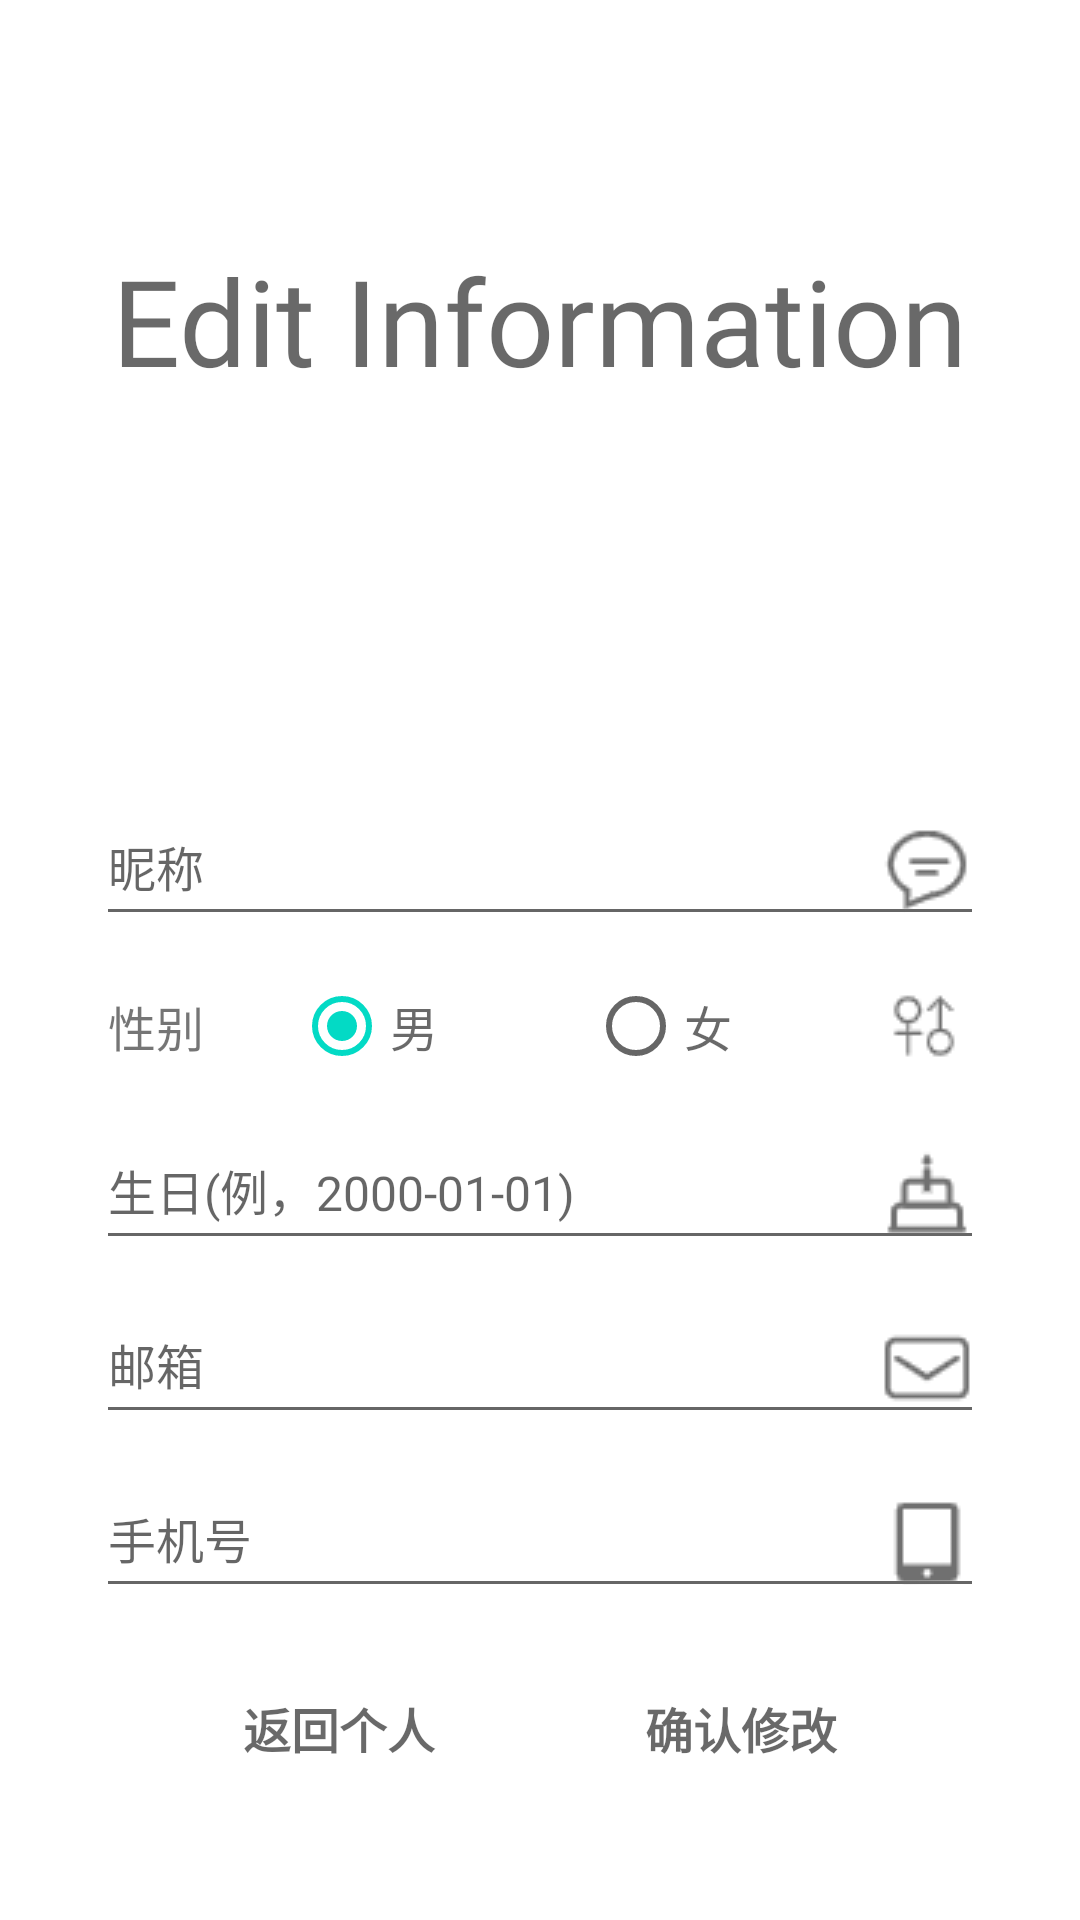

Icons on this 1080 × 1920 Android screen, each with the point to tap as point (x, y):
sex: point (924, 1026)
